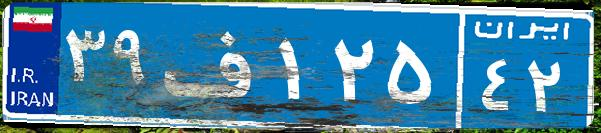1: (273, 28, 330, 110)
2: (330, 28, 385, 110), (525, 38, 570, 115)
3: (57, 26, 110, 107)
4: (475, 38, 525, 113)
5: (385, 28, 445, 110)
9: (110, 28, 158, 105)
ف: (158, 15, 273, 115)
